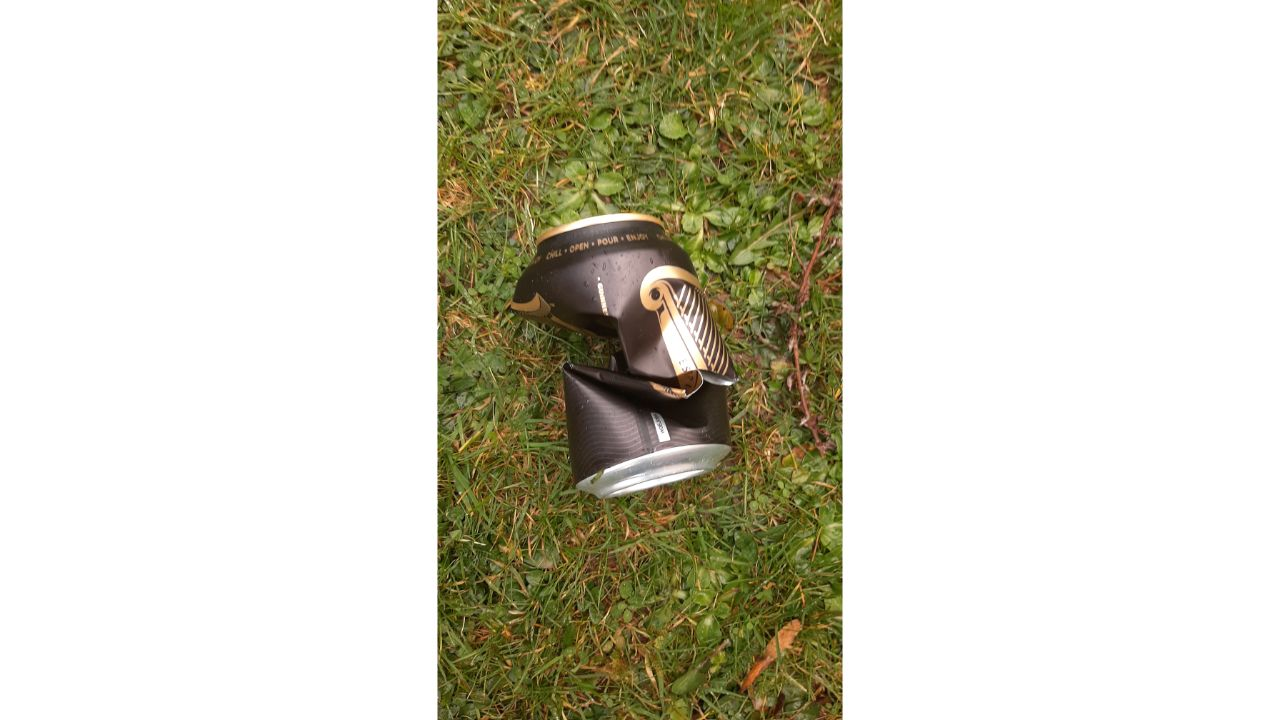Can: (509, 211, 735, 500)
